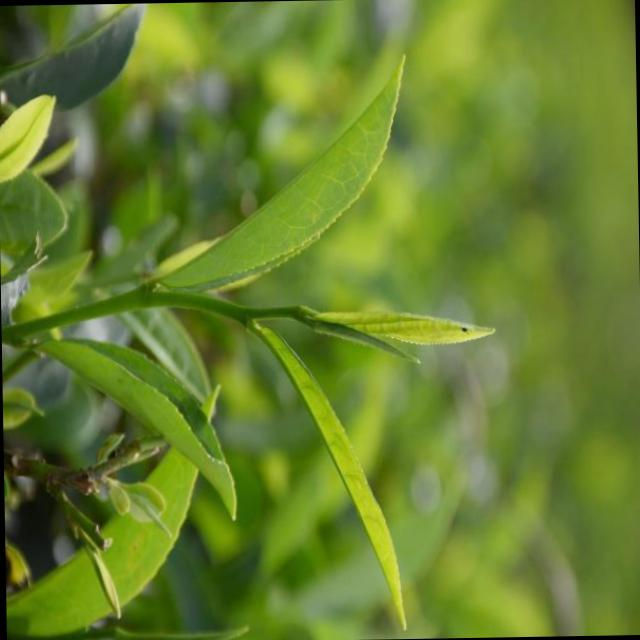Stem: (210, 299, 251, 326)
